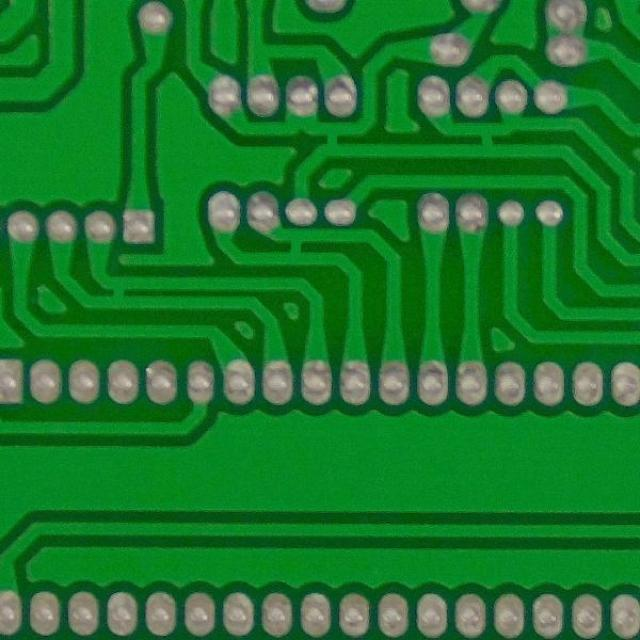short: (94, 272, 140, 318), (275, 226, 316, 270), (310, 119, 351, 159), (469, 126, 502, 159)
